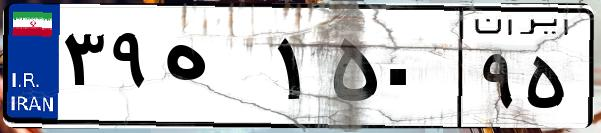0: (385, 28, 445, 110)
1: (270, 28, 330, 110)
3: (57, 26, 110, 100)
5: (330, 28, 385, 110), (525, 38, 570, 115)
9: (475, 38, 525, 113), (110, 28, 158, 98)
ه: (158, 20, 270, 120)
